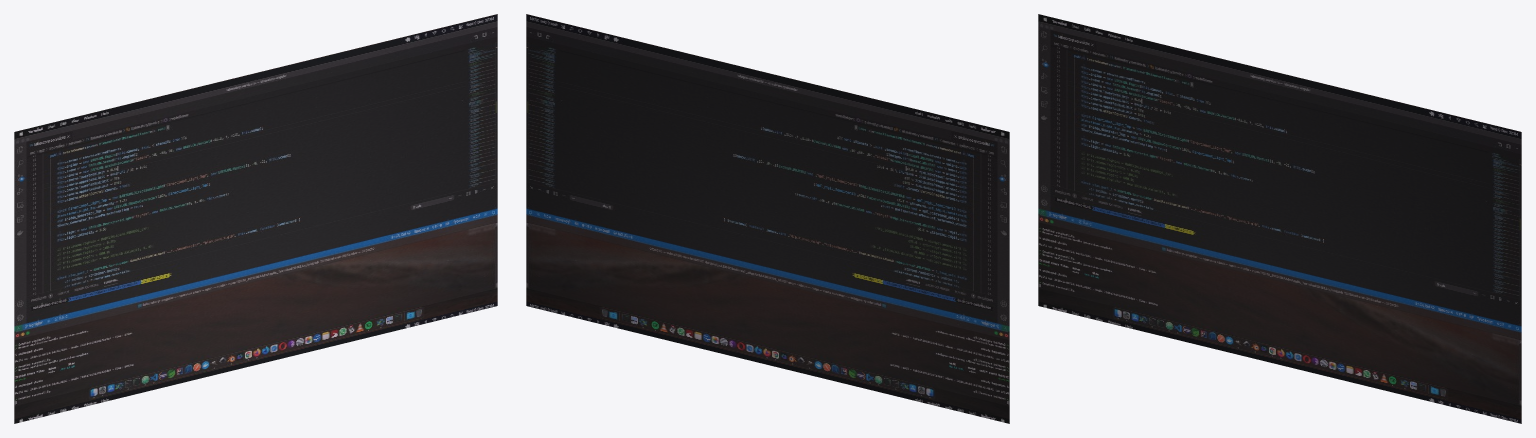
File: screen_center.glb
3 renders of one model, left to right at view 1: azimuth 30°, elevation 25°; view 2: azimuth 150°, elevation 25°; view 3: azimuth 330°, elevation 25°, orthographic.
Parts seen in each view (by area): view 1: screen_center; view 2: screen_center; view 3: screen_center.
Part boxes in pixels (x1,y1,x2,y2): screen_center: [14, 14, 497, 423]; screen_center: [526, 14, 1009, 423]; screen_center: [1038, 14, 1521, 423].
Bounding box in the file's own units: 4.99 × 2.88 × 1.43e-06.
Materials: 1 (1 with a texture image).
